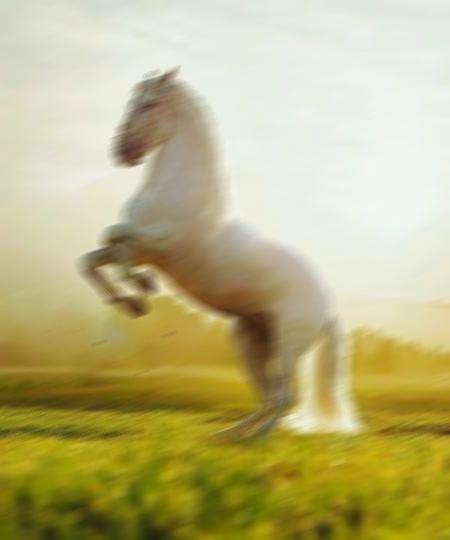horse: (78, 66, 362, 442)
